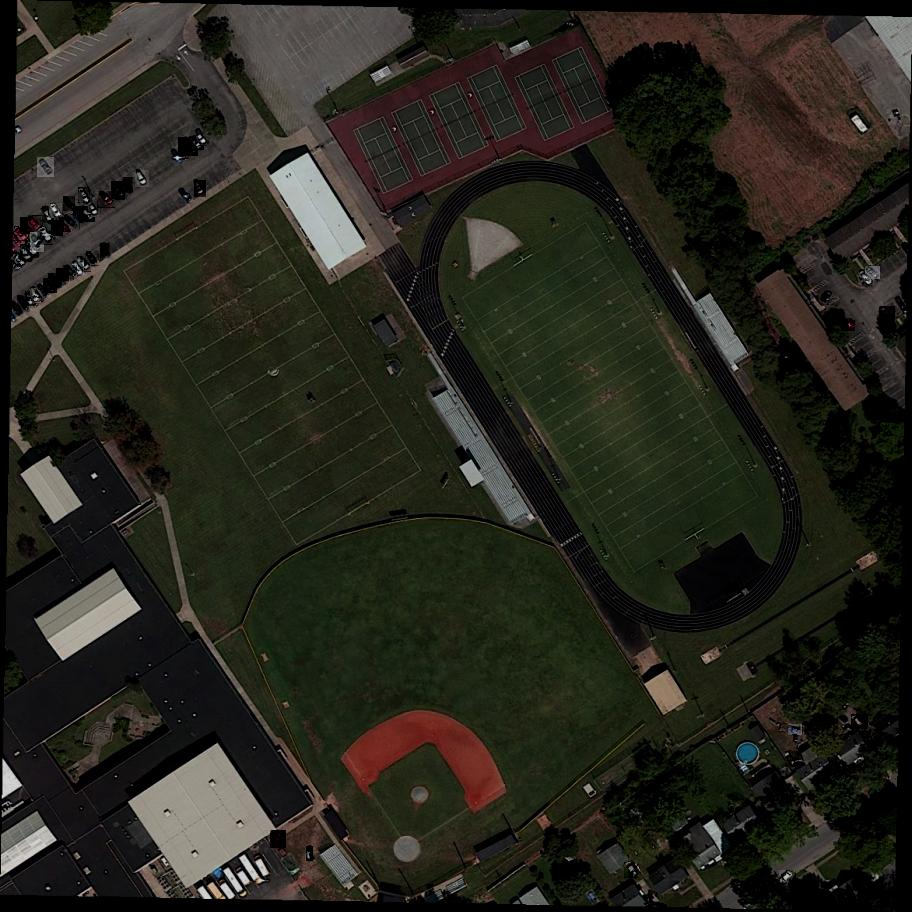small-vehicle: (178, 138, 199, 158), (38, 226, 55, 246), (37, 158, 54, 178), (25, 239, 40, 259), (30, 232, 45, 252), (12, 251, 29, 268), (99, 192, 116, 209), (780, 871, 796, 889), (859, 269, 875, 287), (112, 181, 127, 200), (851, 714, 868, 730), (29, 215, 45, 232), (64, 214, 81, 230), (80, 205, 96, 222), (271, 829, 286, 847), (879, 306, 895, 322), (76, 257, 92, 273), (785, 751, 800, 768), (85, 251, 100, 268), (36, 282, 51, 299), (21, 217, 35, 235), (135, 170, 149, 188), (179, 187, 194, 203), (866, 266, 882, 281), (14, 227, 29, 243), (42, 279, 57, 295), (48, 273, 63, 289), (50, 203, 64, 220), (88, 201, 102, 218), (42, 206, 55, 224), (18, 294, 31, 312), (21, 244, 33, 263), (194, 180, 207, 197), (625, 863, 638, 880), (190, 136, 205, 150), (820, 291, 834, 306), (64, 197, 78, 212), (57, 268, 70, 284), (787, 725, 804, 737), (31, 288, 43, 305), (64, 266, 78, 280), (72, 261, 85, 276), (51, 221, 63, 237), (79, 188, 91, 204), (74, 206, 84, 224), (60, 217, 71, 233), (25, 292, 36, 308), (841, 320, 856, 331), (124, 177, 133, 193), (197, 134, 208, 147), (101, 243, 110, 258), (306, 846, 313, 861)
